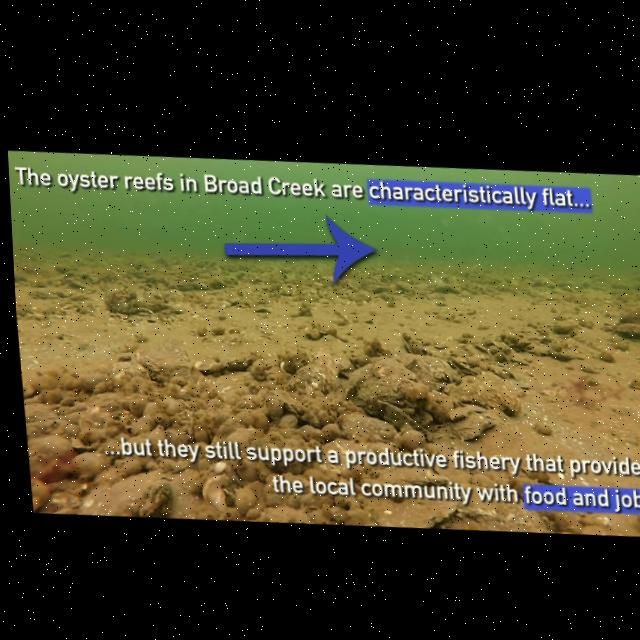Oyster-Closed: (346, 357, 416, 417), (529, 277, 555, 288)
Oyster-Indeterminate: (103, 473, 172, 518), (449, 371, 520, 414), (395, 353, 460, 390), (378, 401, 432, 442), (141, 342, 192, 382), (285, 358, 339, 394), (336, 412, 397, 442), (212, 371, 260, 405), (27, 435, 73, 461), (379, 509, 441, 528), (451, 413, 494, 440), (108, 360, 149, 388), (201, 474, 229, 513), (313, 353, 339, 392), (72, 451, 111, 476), (104, 287, 136, 314), (25, 410, 56, 437), (546, 512, 582, 534), (220, 352, 258, 371), (30, 478, 50, 511), (64, 271, 97, 288), (194, 358, 226, 375), (321, 275, 351, 290), (429, 278, 459, 293), (140, 287, 165, 304), (614, 323, 640, 339), (551, 318, 577, 334), (488, 364, 515, 379), (71, 437, 97, 452), (578, 515, 610, 526), (217, 290, 240, 305), (542, 337, 565, 352), (619, 308, 640, 324), (579, 525, 612, 535), (489, 345, 507, 362), (527, 343, 549, 356), (348, 290, 371, 302), (507, 352, 528, 365), (236, 296, 261, 306), (493, 341, 512, 354), (500, 332, 520, 344), (208, 276, 226, 289), (473, 344, 492, 356), (396, 282, 415, 294), (22, 383, 36, 399), (598, 349, 615, 362), (140, 299, 160, 310), (534, 423, 552, 435), (54, 266, 77, 274), (175, 280, 193, 290), (370, 284, 390, 293), (209, 301, 231, 308), (192, 281, 209, 290), (628, 378, 640, 389), (154, 257, 167, 266), (220, 301, 231, 308), (59, 252, 71, 257)
Oyster-Open: (161, 302, 185, 314), (137, 306, 154, 314)
